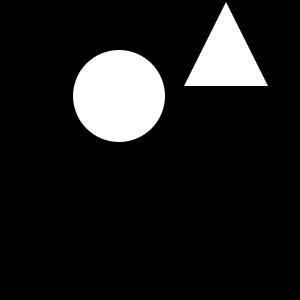rectangle: (73, 50, 165, 142)
triangle: (184, 2, 268, 86)
